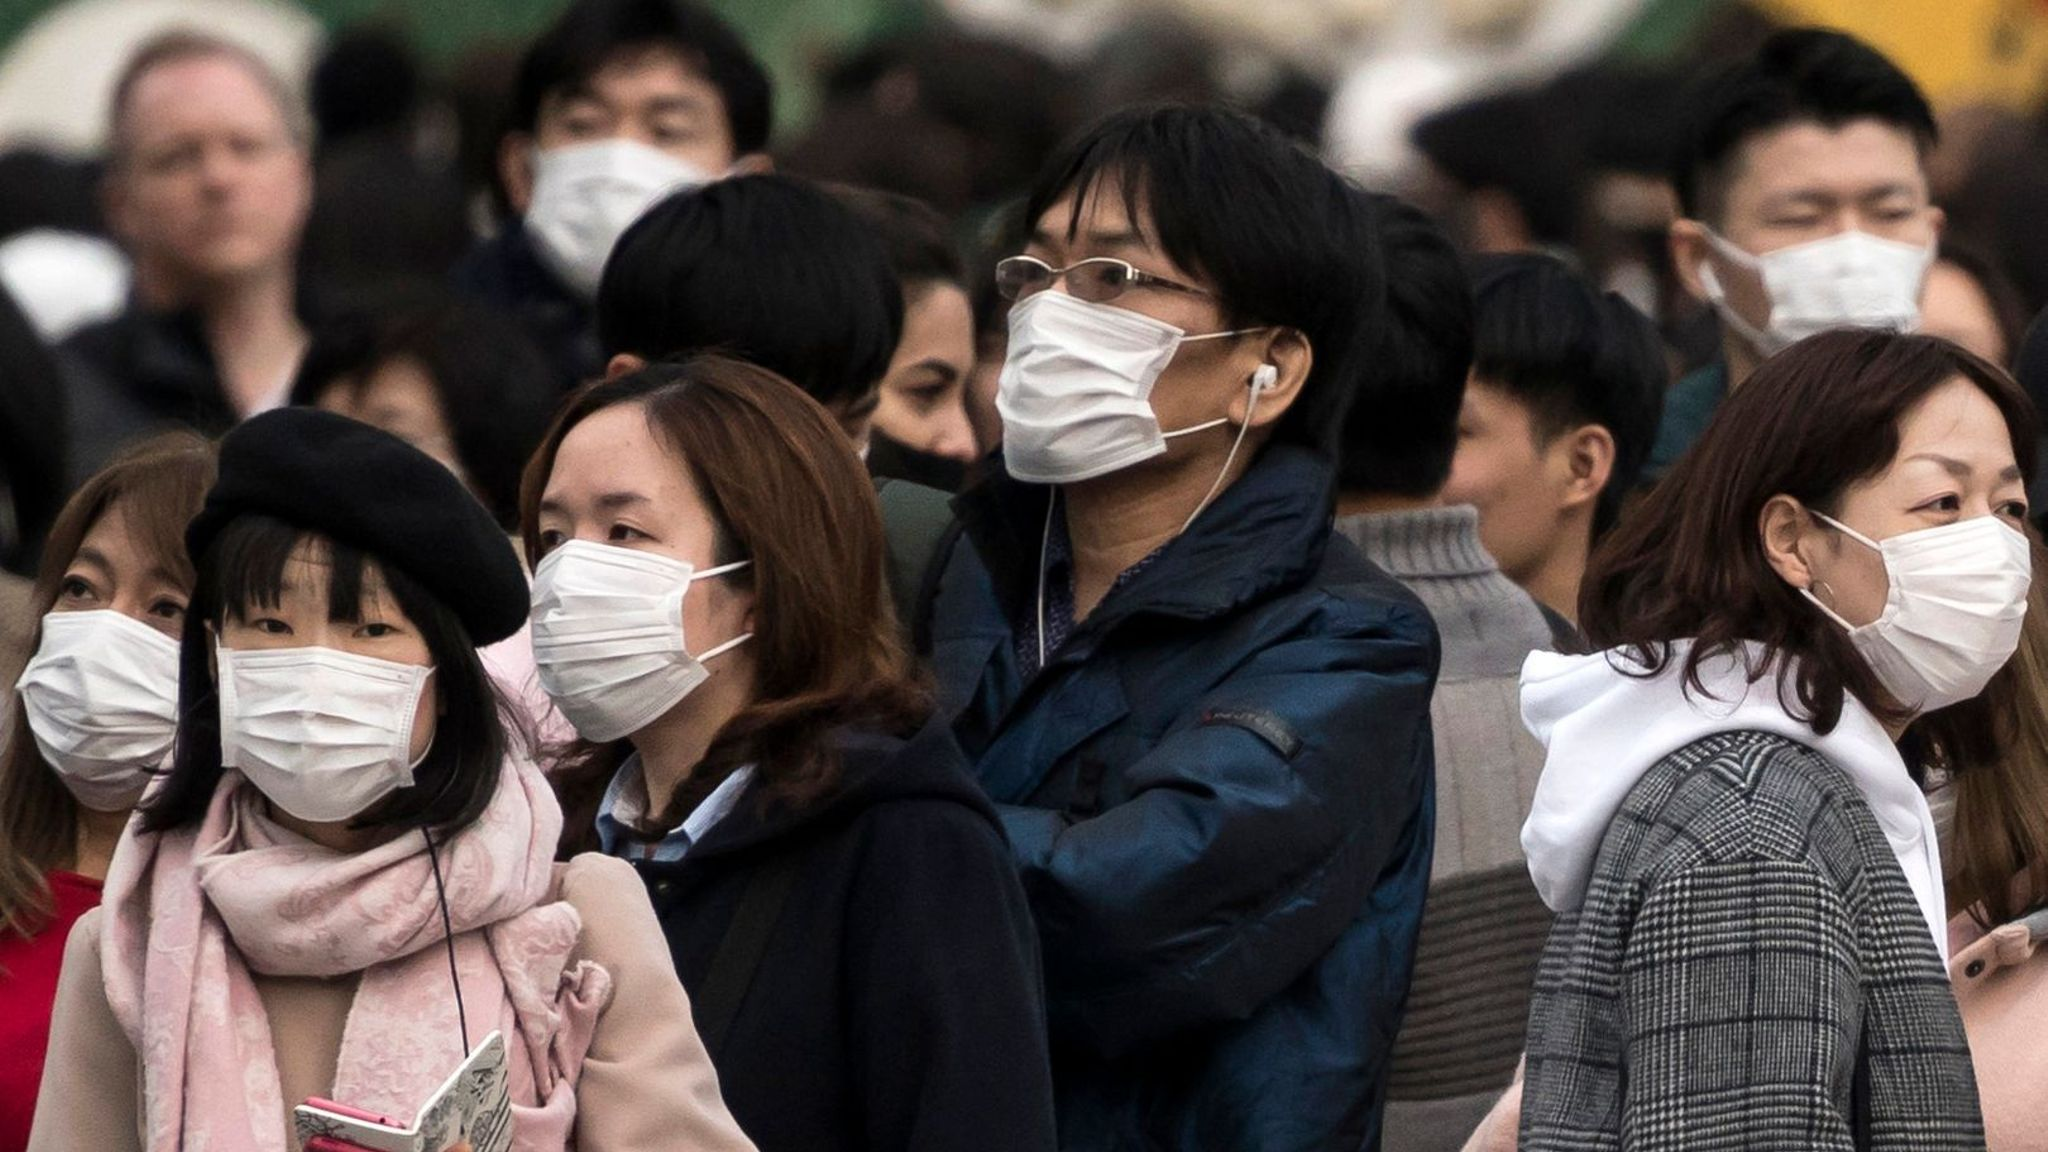surgical: (982, 290, 1193, 498), (205, 633, 433, 822), (500, 549, 716, 745), (1849, 511, 2048, 725), (13, 604, 191, 815), (513, 142, 713, 290), (1735, 230, 1930, 361)
